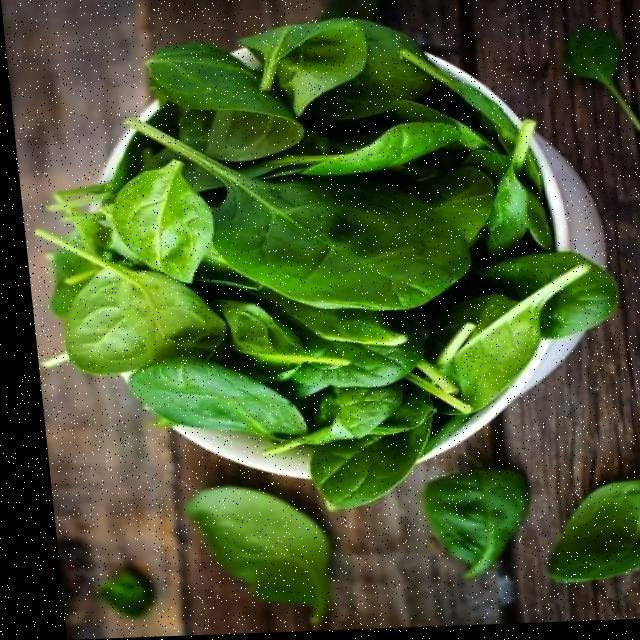Spinach: (4, 1, 640, 530)
